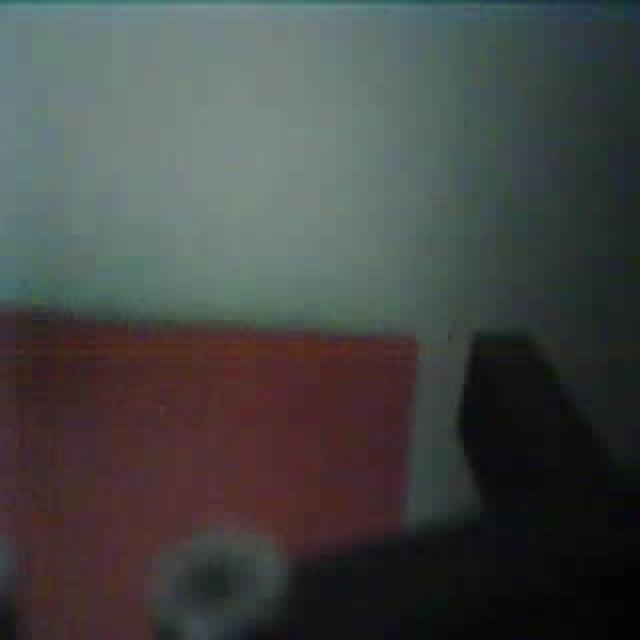red_box: (0, 309, 422, 640)
